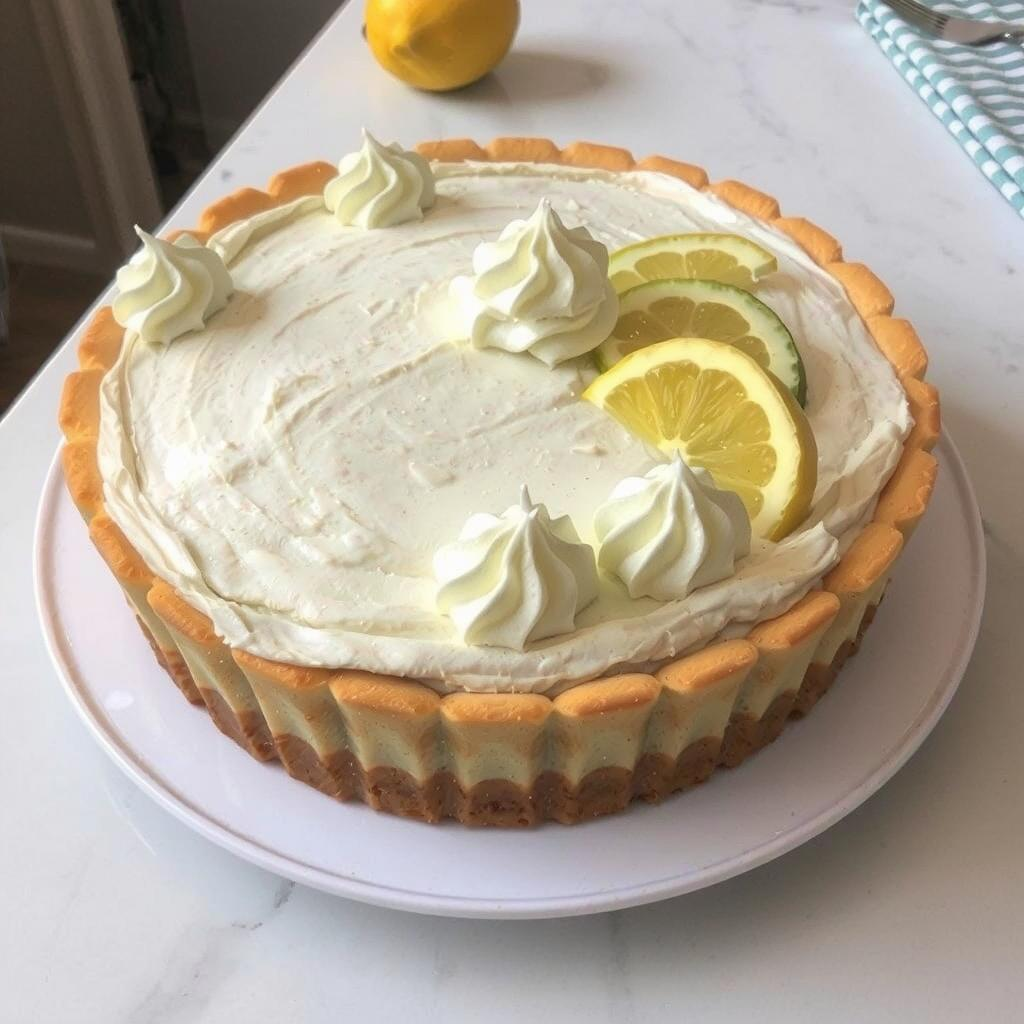cake: (56, 124, 953, 831)
